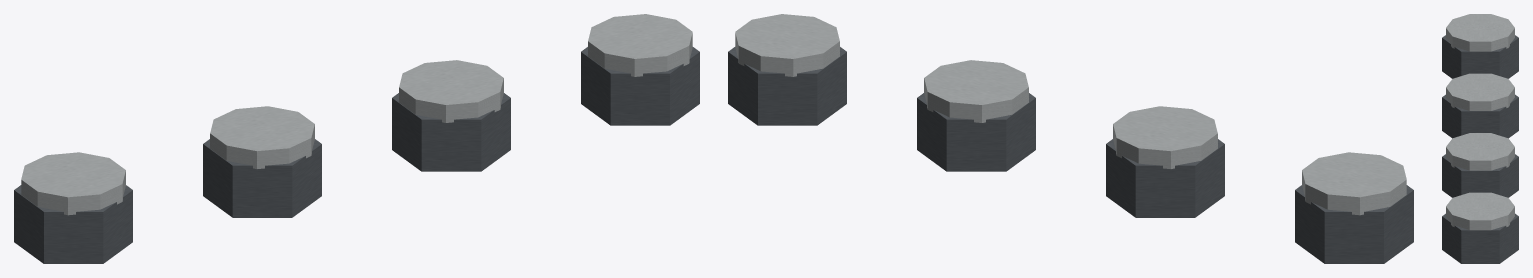
File: electrical_panel_conduit_collars.glb
3 views of the same model, side by side, from view 1: azimuth 30°, elevation 25°; view 2: azimuth 150°, elevation 25°; view 3: azimuth 270°, elevation 25° (orthographic). The views are drawn at different scales.
Parts seen in each view (by area): view 1: electrical_panel_conduit_collars; view 2: electrical_panel_conduit_collars; view 3: electrical_panel_conduit_collars.
Boxes of the visible parts, x1,y1,x2,y2 form: electrical_panel_conduit_collars: [14, 14, 699, 263]; electrical_panel_conduit_collars: [728, 14, 1413, 263]; electrical_panel_conduit_collars: [1442, 14, 1518, 263].
Bounding box in the file's own units: 0.382 × 0.0375 × 0.06.
Materials: 1 (1 with a texture image).
